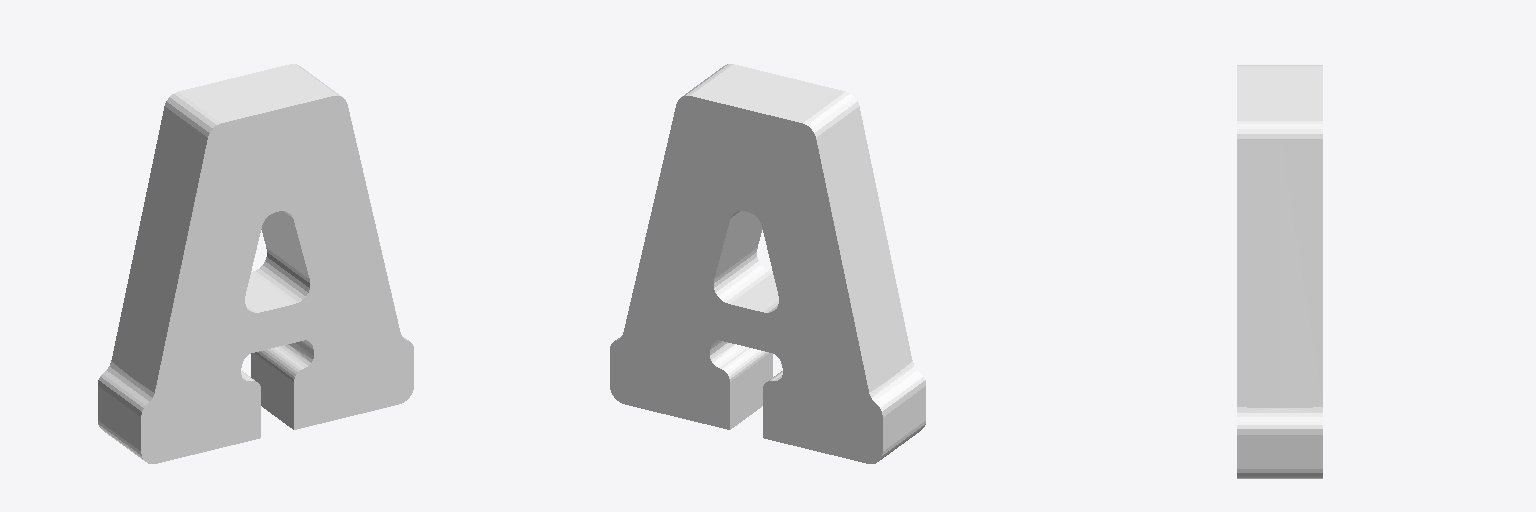
3 renders of one model, left to right at view 1: azimuth 30°, elevation 25°; view 2: azimuth 150°, elevation 25°; view 3: azimuth 270°, elevation 25°, orthographic.
Visible parts, largest first — view 1: Plane; view 2: Plane; view 3: Plane.
Boxes of the visible parts, box(x1,y1,x2,y2) form: Plane: box(98, 64, 413, 463); Plane: box(610, 64, 925, 463); Plane: box(1237, 65, 1322, 478).
Size of the model in its own units: 2.53 by 2.87 by 0.6962.
Materials: 1 (1 with a texture image).